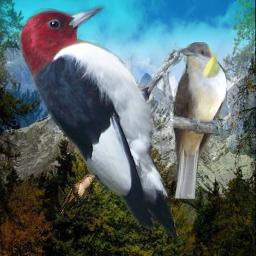Cuckoo: (170, 42, 227, 199), (59, 174, 95, 217)
Woodpecker: (18, 5, 195, 236)
